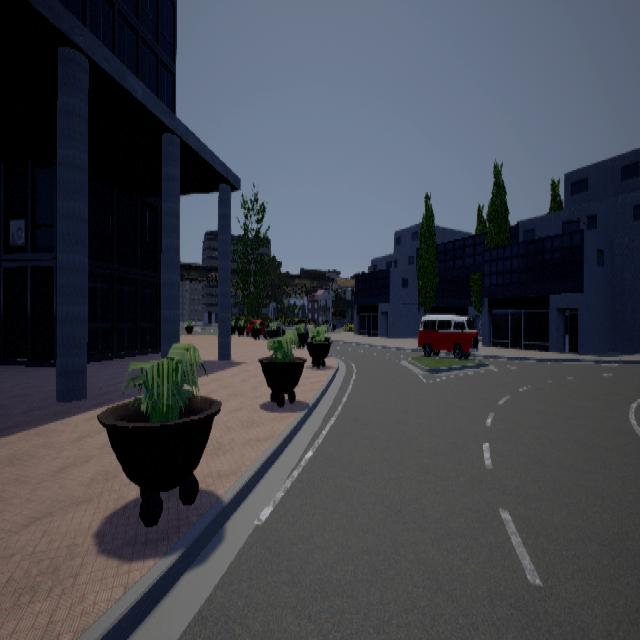vehicle: (418, 313, 480, 359)
